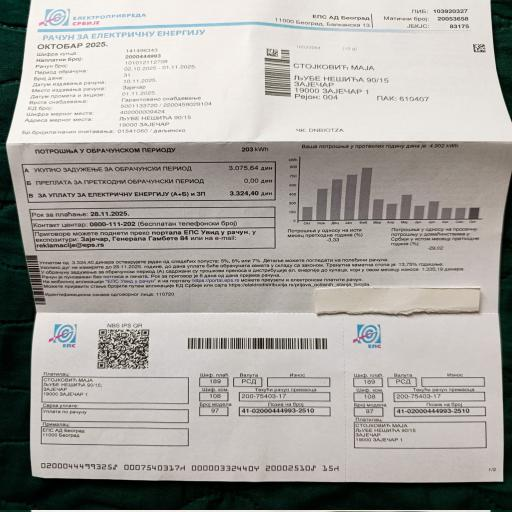racun_za_struju: (11, 141, 283, 221)
